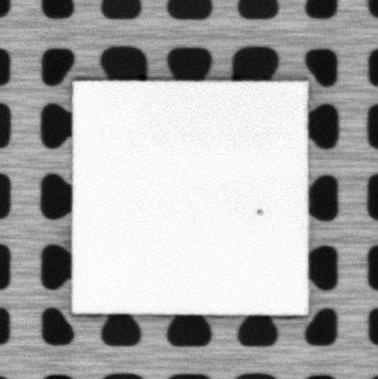DIE_INK: (255, 206, 264, 216)
